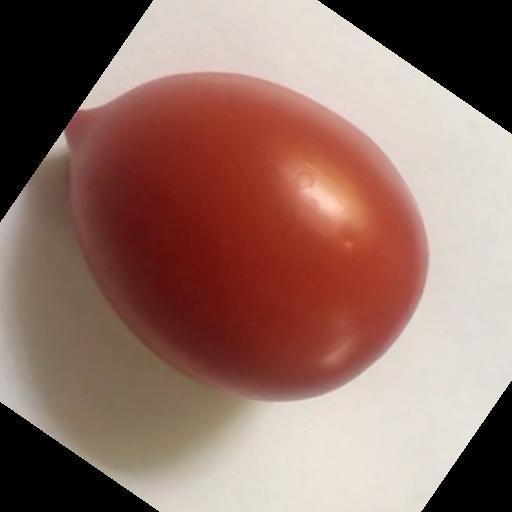healthy-tomato: (66, 73, 432, 406)
